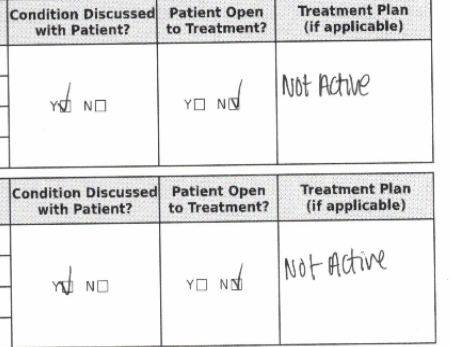checked: (61, 257, 78, 301), (58, 83, 78, 116), (227, 80, 246, 114), (230, 263, 250, 294)
